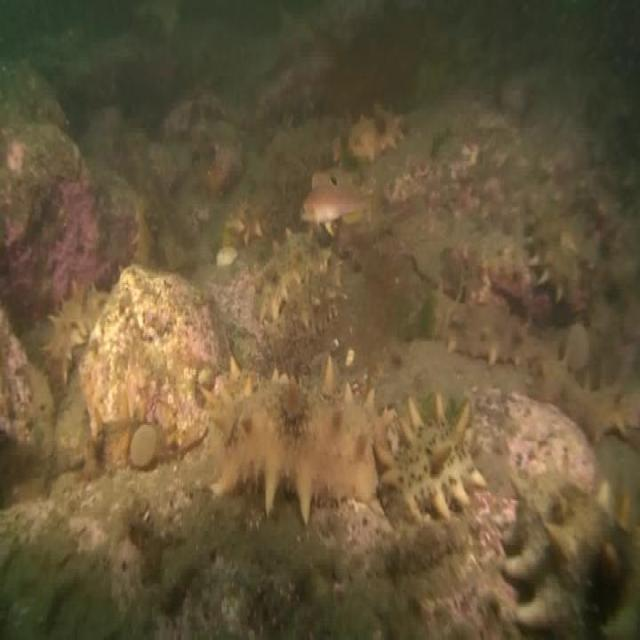holothurian: (502, 458, 640, 640), (207, 360, 383, 444), (376, 395, 481, 525), (222, 422, 372, 512), (260, 226, 343, 322), (545, 357, 628, 441), (436, 286, 526, 362), (44, 280, 108, 376), (524, 202, 582, 299), (352, 103, 406, 156)
scallop: (218, 248, 238, 266)
